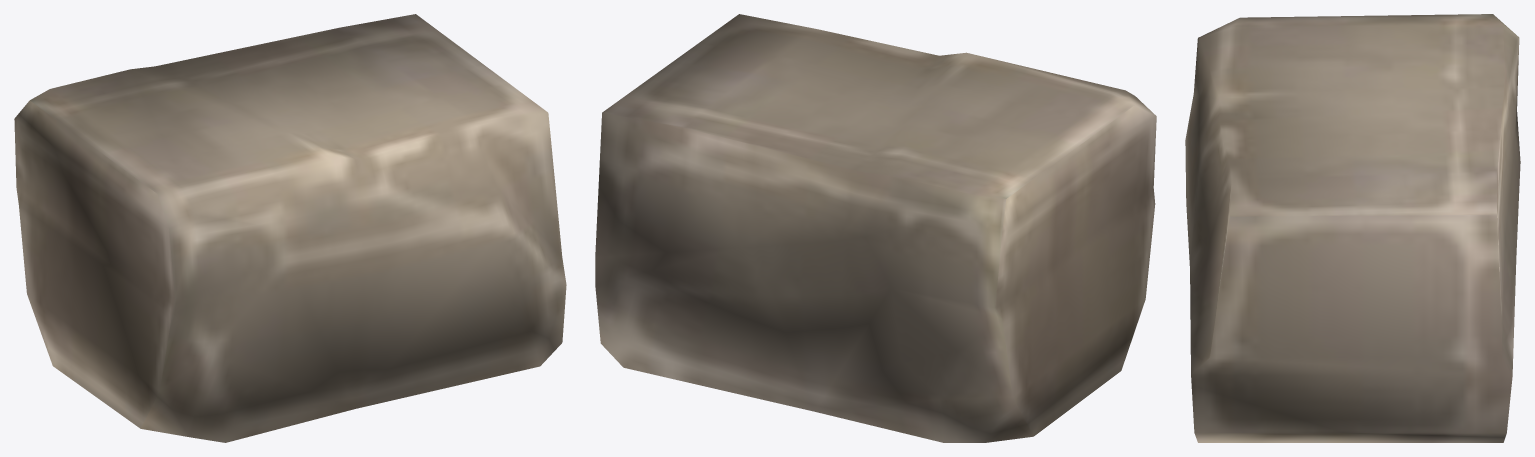
The model's file is Prop_Brick1.gltf.
3 renders of one model, left to right at view 1: azimuth 30°, elevation 25°; view 2: azimuth 150°, elevation 25°; view 3: azimuth 270°, elevation 25°, orthographic. The views are drawn at different scales.
Visible parts, largest first — view 1: Prop_Brick1; view 2: Prop_Brick1; view 3: Prop_Brick1.
Part boxes in pixels (x1,y1,x2,y2): Prop_Brick1: (14, 14, 566, 442); Prop_Brick1: (595, 14, 1156, 442); Prop_Brick1: (1185, 14, 1520, 442).
Bounding box in the file's own units: 0.3456 × 0.208 × 0.2502.
Materials: 1 (1 with a texture image).
